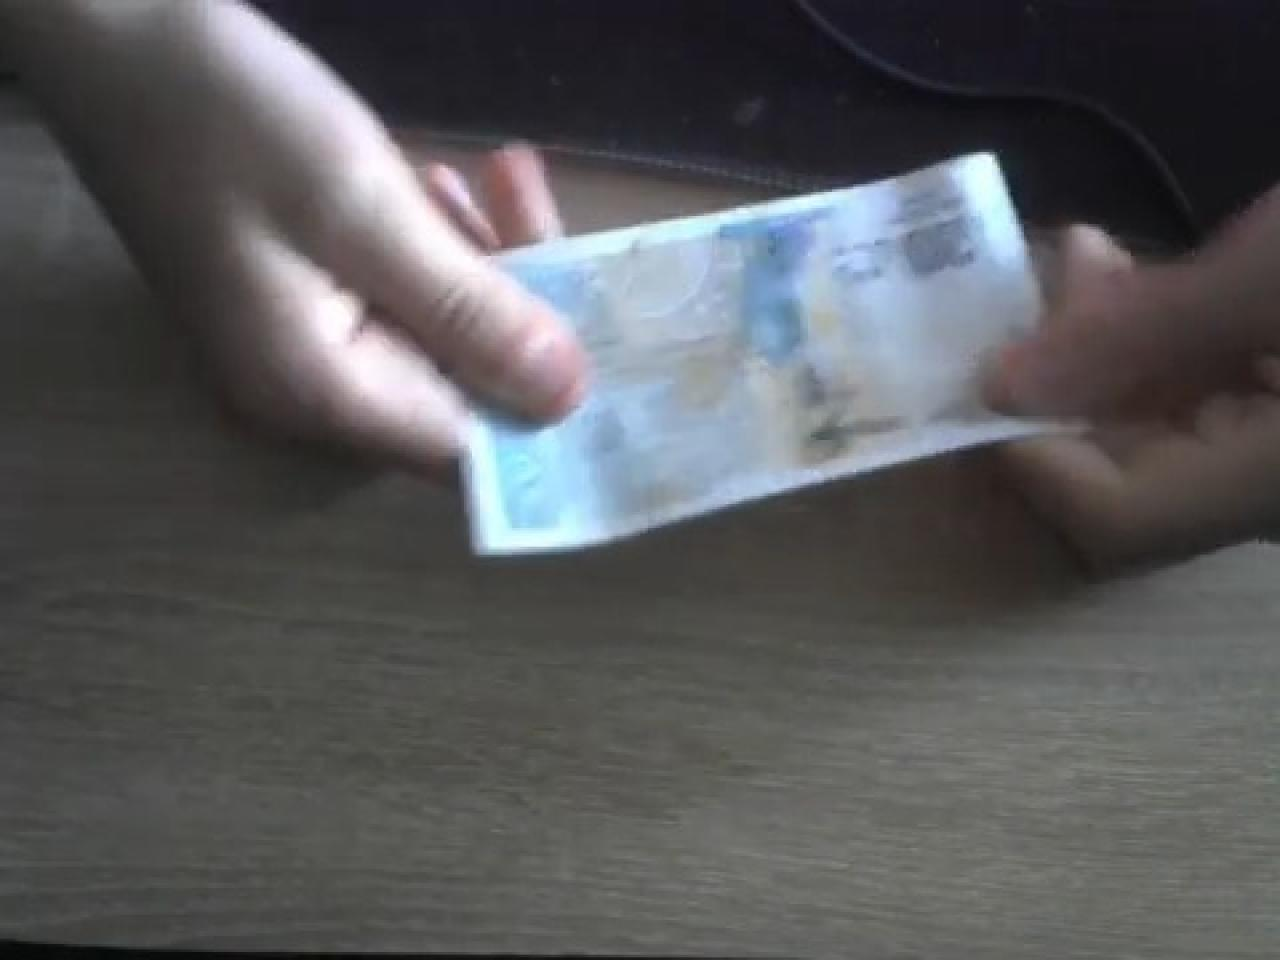20leva: (447, 144, 1085, 563)
